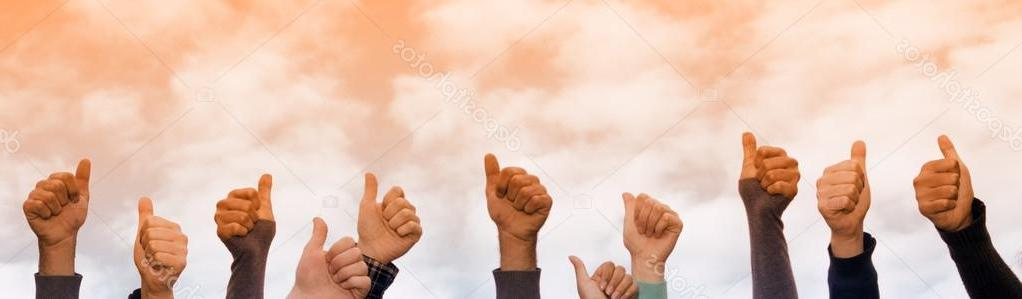thumbsup: (312, 216, 371, 292), (484, 153, 553, 216), (22, 157, 91, 219), (912, 134, 965, 213), (815, 139, 869, 215), (363, 172, 423, 239), (138, 195, 189, 272), (214, 172, 273, 237), (742, 132, 802, 195), (568, 254, 640, 299), (622, 192, 683, 240)
